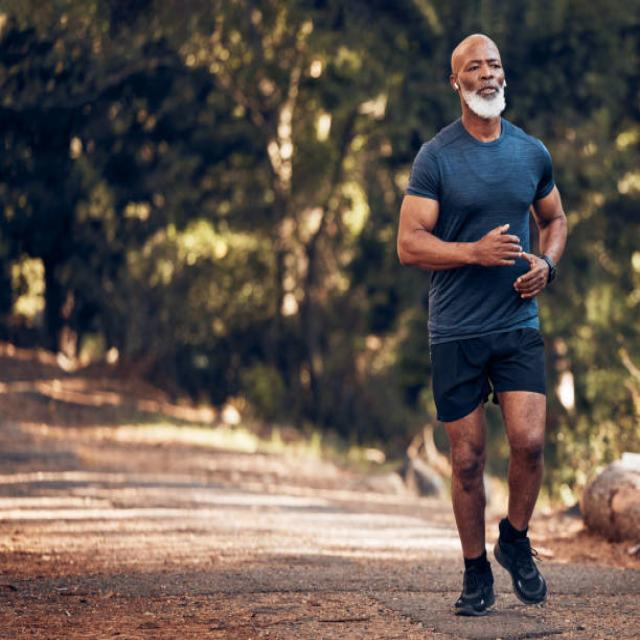Real human 2: (388, 19, 594, 630)
